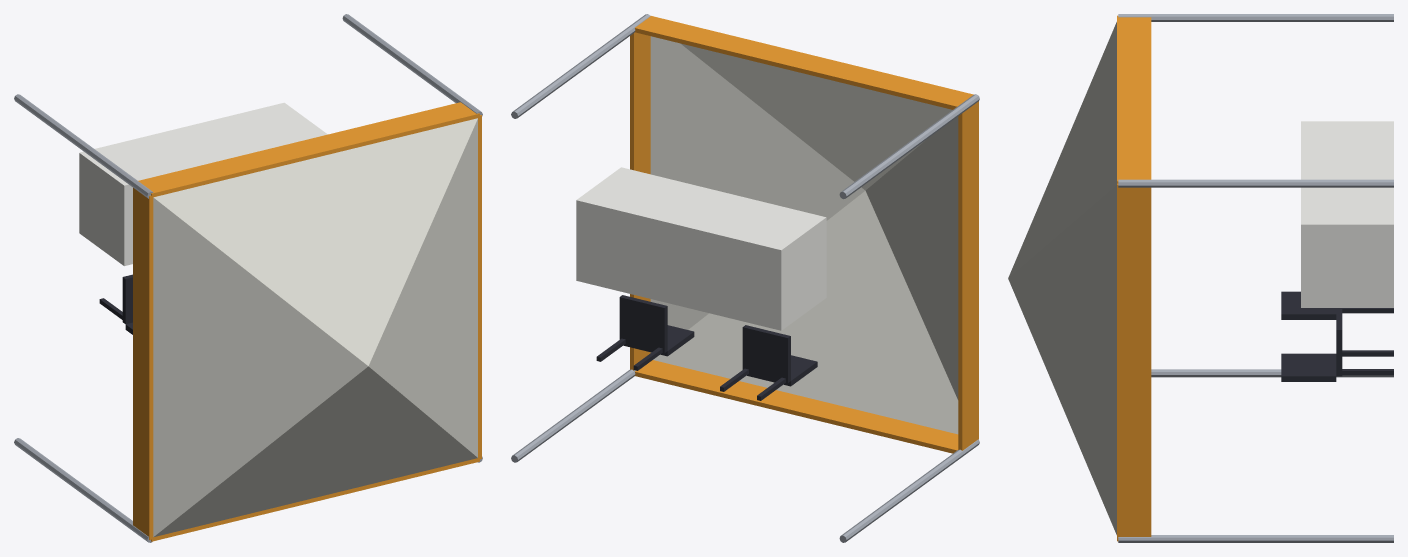
Rendered from tente.glb.
The picture shows the model from 3 angles, left to right: view 1: azimuth 30°, elevation 25°; view 2: azimuth 150°, elevation 25°; view 3: azimuth 270°, elevation 25°; orthographic projection. The views are drawn at different scales.
Visible parts, largest first — view 1: toit, table, lambrequin.003, lambrequin.002, lambrequin, pied.001, pied, pied.003, lambrequin.001; view 2: toit, table, lambrequin.003, lambrequin.002, lambrequin, lambrequin.001, assise.001, assise, pied.001, pied, pied.003, pied.002 (+2 smaller); view 3: toit, table, lambrequin.001, lambrequin.002, pied.003, pied.002, pied.001, dossier.001, pied, dossier, assise.001.
Boxes of the visible parts, left/top/right/bottom form: toit: left=153, top=118, right=477, bottom=537; table: left=79, top=102, right=327, bottom=265; lambrequin.003: left=133, top=188, right=153, bottom=539; lambrequin.002: left=138, top=102, right=479, bottom=197; lambrequin: left=151, top=457, right=479, bottom=541; pied.001: left=14, top=94, right=153, bottom=198; pied: left=14, top=438, right=152, bottom=542; pied.003: left=342, top=14, right=482, bottom=116; lambrequin.001: left=478, top=115, right=481, bottom=459; toit: left=650, top=36, right=958, bottom=434; table: left=576, top=167, right=826, bottom=330; lambrequin.003: left=958, top=101, right=978, bottom=450; lambrequin.002: left=635, top=16, right=973, bottom=109; lambrequin: left=635, top=360, right=958, bottom=453; lambrequin.001: left=630, top=32, right=650, bottom=370; assise.001: left=619, top=295, right=667, bottom=353; assise: left=742, top=325, right=790, bottom=383; pied.001: left=839, top=94, right=979, bottom=199; pied: left=839, top=439, right=979, bottom=542; pied.003: left=511, top=14, right=650, bottom=118; pied.002: left=511, top=369, right=635, bottom=462; toit: left=1008, top=22, right=1116, bottom=534; table: left=1301, top=121, right=1393, bottom=307; lambrequin.001: left=1117, top=183, right=1151, bottom=539; lambrequin.002: left=1117, top=15, right=1151, bottom=183; pied.003: left=1118, top=179, right=1393, bottom=187; pied.002: left=1118, top=535, right=1393, bottom=542; pied.001: left=1118, top=14, right=1393, bottom=21; dossier.001: left=1281, top=353, right=1336, bottom=381; pied: left=1151, top=369, right=1393, bottom=377; dossier: left=1281, top=291, right=1336, bottom=319; assise.001: left=1336, top=308, right=1342, bottom=376.
Size of the model in its own units: 3.27 by 3.27 by 3.15.
